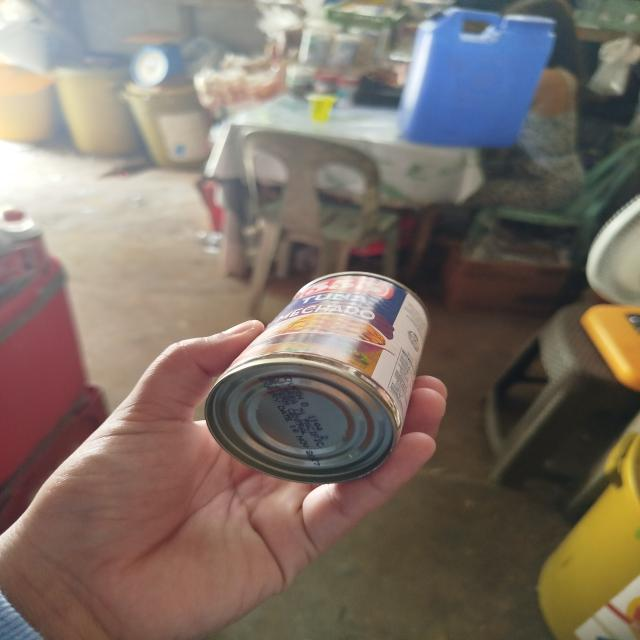metal: (180, 247, 463, 499)
plastic: (378, 2, 576, 160)
